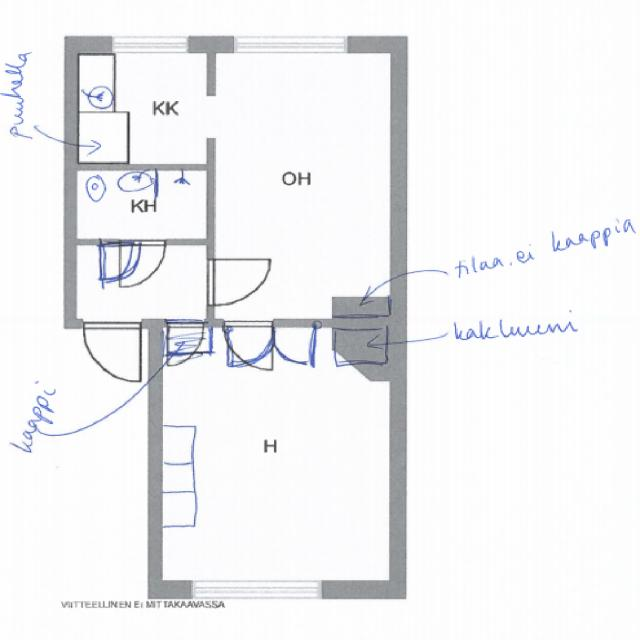door: (84, 318, 140, 381), (207, 260, 265, 304), (227, 318, 272, 365), (272, 318, 316, 365), (100, 239, 140, 280)
